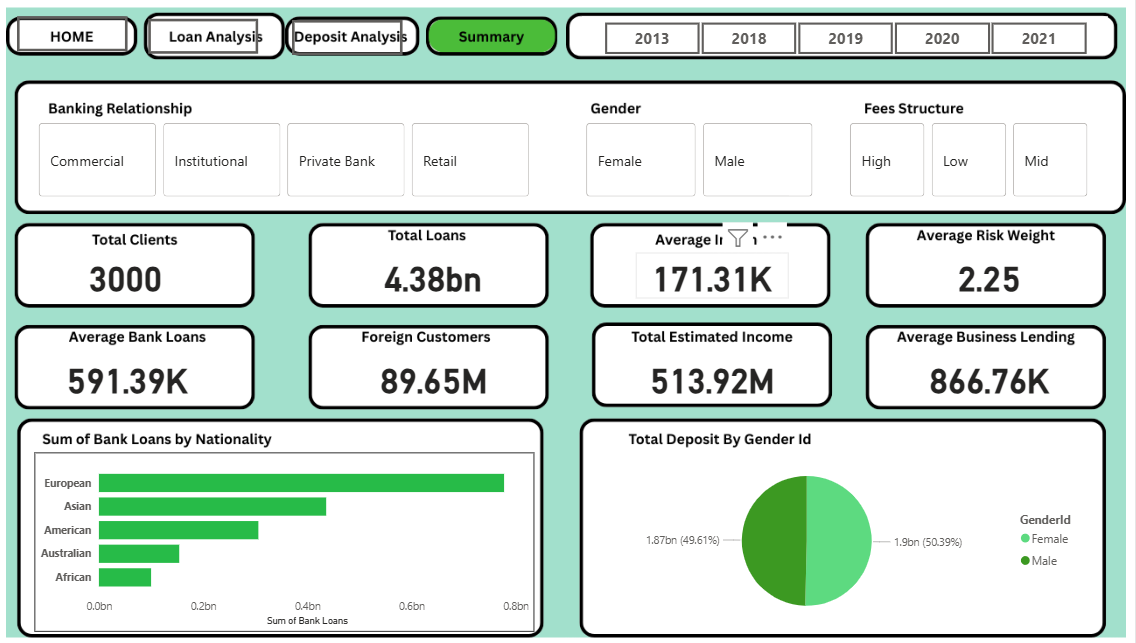

The dashboard page shown, as its layout file describes it:
{"tool":"powerbi","page":{"name":"Summary","canvas":[1300,800],"ordinal":3},"visuals":[{"type":"slicer","fields":{"Values":["banking_case customer.Year of Joining"]},"box":[669,47.4,600.7,43.2],"z":0},{"type":"advancedSlicerVisual","fields":{"Values":["banking_case customer.BRId"]},"box":[43.2,164.5,571.4,94.8],"z":1000},{"type":"advancedSlicerVisual","fields":{"Values":["banking_case customer.GenderId"]},"box":[669,164.5,269,94.8],"z":2000},{"type":"advancedSlicerVisual","fields":{"Values":["banking_case customer.Fee Structure"]},"box":[970,164.5,281.5,94.8],"z":3000},{"type":"card","fields":{"Values":["CountNonNull(banking_case customer.ï»¿Client ID)"]},"box":[59.9,317.8,174.2,53],"z":4000},{"type":"card","fields":{"Values":["banking_case customer.Total loan"]},"box":[411.1,317.8,174.2,53],"z":5000},{"type":"card","fields":{"Values":["Avg(banking_case customer.Estimated Income)"]},"box":[730.3,317.8,174.2,53],"z":6000},{"type":"card","fields":{"Values":["Avg(banking_case customer.Risk Weighting)"]},"box":[1046.6,317.8,174.2,53],"z":7000},{"type":"card","fields":{"Values":["Avg(banking_case customer.Bank Loans)"]},"box":[61.3,434.8,174.2,53],"z":8000},{"type":"card","fields":{"Values":["Sum(banking_case customer.Foreign Currency Account)"]},"box":[418.1,434.8,161.7,53],"z":9000},{"type":"card","fields":{"Values":["Sum(banking_case customer.Estimated Income)"]},"box":[730.3,434.8,174.2,53],"z":10000},{"type":"card","fields":{"Values":["Avg(banking_case customer.Business Lending)"]},"box":[1046.6,434.8,174.2,53],"z":11000},{"type":"barChart","fields":{"Y":["Sum(banking_case customer.Bank Loans)"],"Category":["banking_case customer.Nationality"]},"box":[43.2,546.3,571.4,204.9],"z":12000},{"type":"scorecard","box":[676.7,546.7,574.4,204.4],"z":13000},{"type":"pieChart","fields":{"Y":["banking_case customer.Total Deposit"],"Category":["banking_case customer.GenderId"]},"box":[676.7,546.8,573.9,199.6],"z":14000},{"type":"actionButton","box":[22.4,47.2,126.4,40.2],"z":15000},{"type":"actionButton","box":[186.6,50.8,126.4,40.2],"z":16000},{"type":"actionButton","box":[337.8,50.8,126.4,40.2],"z":17000}]}

Visuals, with their boxes on the page's 1300x800 design canvas (x1, y1, x2, y2). These are canvas units, not pixel positions in the 1136x643 screenshot, which may show the page scaled, cropped or inside an application window:
slicer - banking_case customer.Year of Joining: (x1=669, y1=47, x2=1270, y2=91)
advancedSlicerVisual - banking_case customer.BRId: (x1=43, y1=164, x2=615, y2=259)
advancedSlicerVisual - banking_case customer.GenderId: (x1=669, y1=164, x2=938, y2=259)
advancedSlicerVisual - banking_case customer.Fee Structure: (x1=970, y1=164, x2=1252, y2=259)
card - CountNonNull(banking_case customer.ï»¿Client ID): (x1=60, y1=318, x2=234, y2=371)
card - banking_case customer.Total loan: (x1=411, y1=318, x2=585, y2=371)
card - Avg(banking_case customer.Estimated Income): (x1=730, y1=318, x2=904, y2=371)
card - Avg(banking_case customer.Risk Weighting): (x1=1047, y1=318, x2=1221, y2=371)
card - Avg(banking_case customer.Bank Loans): (x1=61, y1=435, x2=236, y2=488)
card - Sum(banking_case customer.Foreign Currency Account): (x1=418, y1=435, x2=580, y2=488)
card - Sum(banking_case customer.Estimated Income): (x1=730, y1=435, x2=904, y2=488)
card - Avg(banking_case customer.Business Lending): (x1=1047, y1=435, x2=1221, y2=488)
barChart - Sum(banking_case customer.Bank Loans) x banking_case customer.Nationality: (x1=43, y1=546, x2=615, y2=751)
scorecard: (x1=677, y1=547, x2=1251, y2=751)
pieChart - banking_case customer.Total Deposit x banking_case customer.GenderId: (x1=677, y1=547, x2=1251, y2=746)
actionButton: (x1=22, y1=47, x2=149, y2=87)
actionButton: (x1=187, y1=51, x2=313, y2=91)
actionButton: (x1=338, y1=51, x2=464, y2=91)
